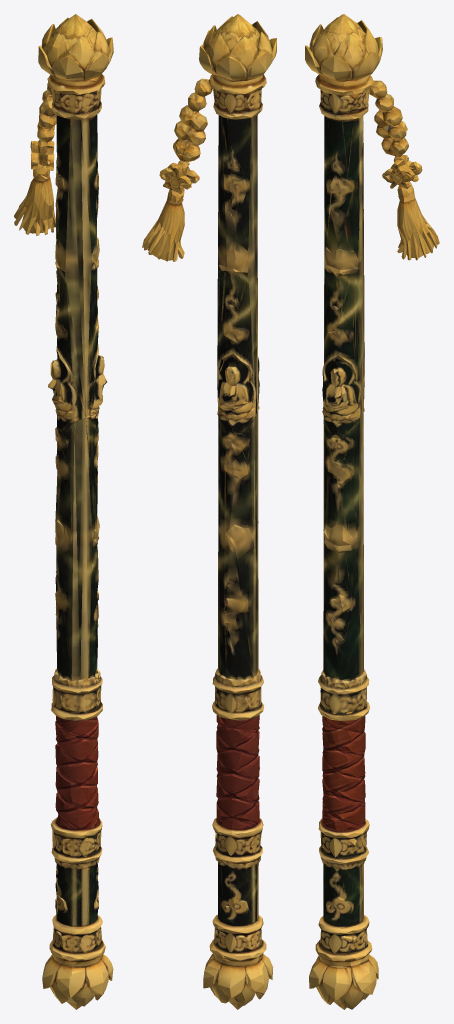
File: staff_3.glb
The picture shows the model from 3 angles, left to right: view 1: azimuth 90°, elevation 25°; view 2: azimuth 150°, elevation 25°; view 3: azimuth 330°, elevation 25°; orthographic projection.
Parts seen in each view (by area): view 1: output_unwrapped; view 2: output_unwrapped; view 3: output_unwrapped.
Boxes of the visible parts, x1,y1,x2,y2 form: output_unwrapped: (14, 14, 113, 1009); output_unwrapped: (142, 14, 276, 1009); output_unwrapped: (305, 14, 439, 1009).
Bounding box in the file's own units: 0.2113 × 1.91 × 0.1732.
Materials: 1 (1 with a texture image).
